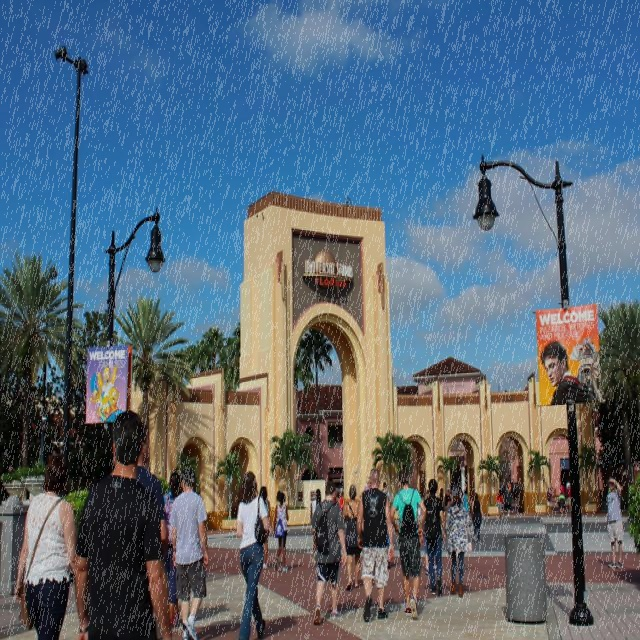pessoa: (74, 408, 174, 638), (12, 454, 79, 638), (166, 466, 208, 639), (234, 469, 272, 639), (355, 466, 394, 624), (388, 468, 427, 620), (308, 478, 347, 626), (136, 420, 170, 553), (538, 337, 601, 406), (162, 472, 186, 628), (420, 478, 447, 598), (444, 490, 472, 600), (86, 360, 125, 419), (342, 483, 362, 593), (604, 474, 624, 570), (270, 488, 290, 574), (258, 484, 272, 570), (416, 489, 429, 574), (470, 490, 486, 544), (308, 488, 322, 521), (462, 486, 472, 518), (502, 486, 512, 518), (383, 531, 391, 571), (443, 488, 453, 518), (508, 475, 519, 500), (496, 486, 504, 518), (363, 475, 373, 493), (371, 560, 377, 590), (338, 490, 346, 512), (381, 481, 391, 498), (546, 486, 552, 514), (334, 486, 342, 504), (558, 480, 564, 500), (437, 486, 445, 499), (461, 560, 468, 572), (565, 486, 570, 500), (433, 562, 438, 575), (565, 479, 571, 488), (460, 488, 463, 500)
